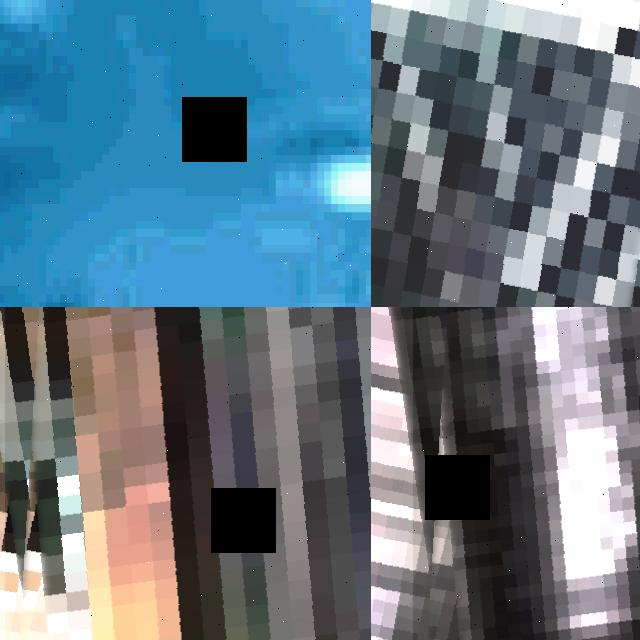arms: (5, 307, 371, 640), (371, 307, 640, 640), (371, 0, 640, 307), (413, 307, 640, 640), (0, 307, 97, 640)
